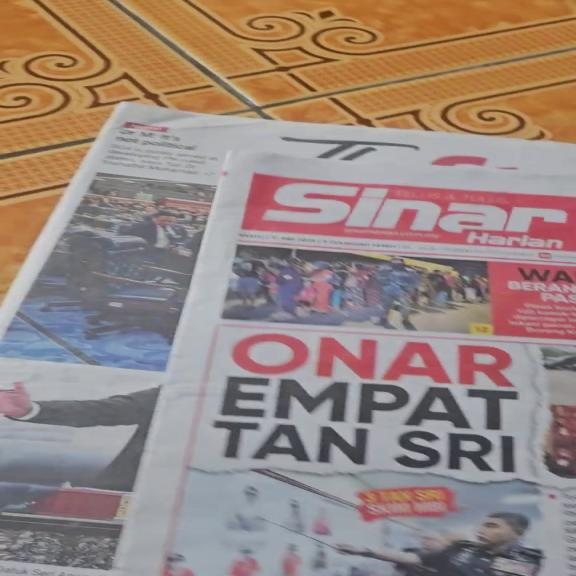Kertas: (122, 143, 567, 567)
